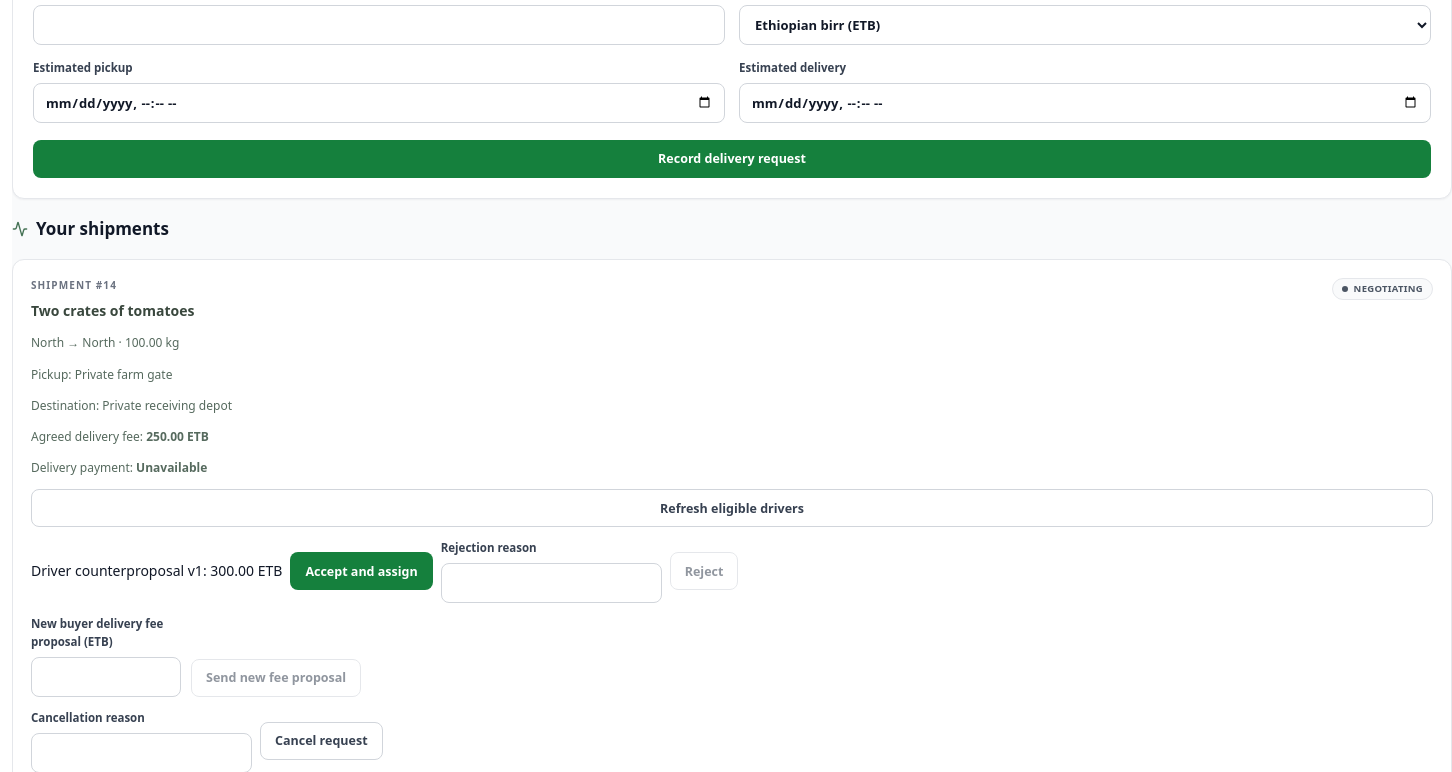
Phase 3 shipment workspace › requires and submits a reason when rejecting a driver counterproposal
(page scrolled)
Expected: the text "Driver counterproposal v1: 300.00 ETB" is shown, [31,560,282,582]
Expected: the button "Reject" is disabled, [670,552,738,590]
In the field named "Rejection reason for counterproposal 27": (551, 583) [441,563,662,603], type "  The requested fee is above the available budget.  "
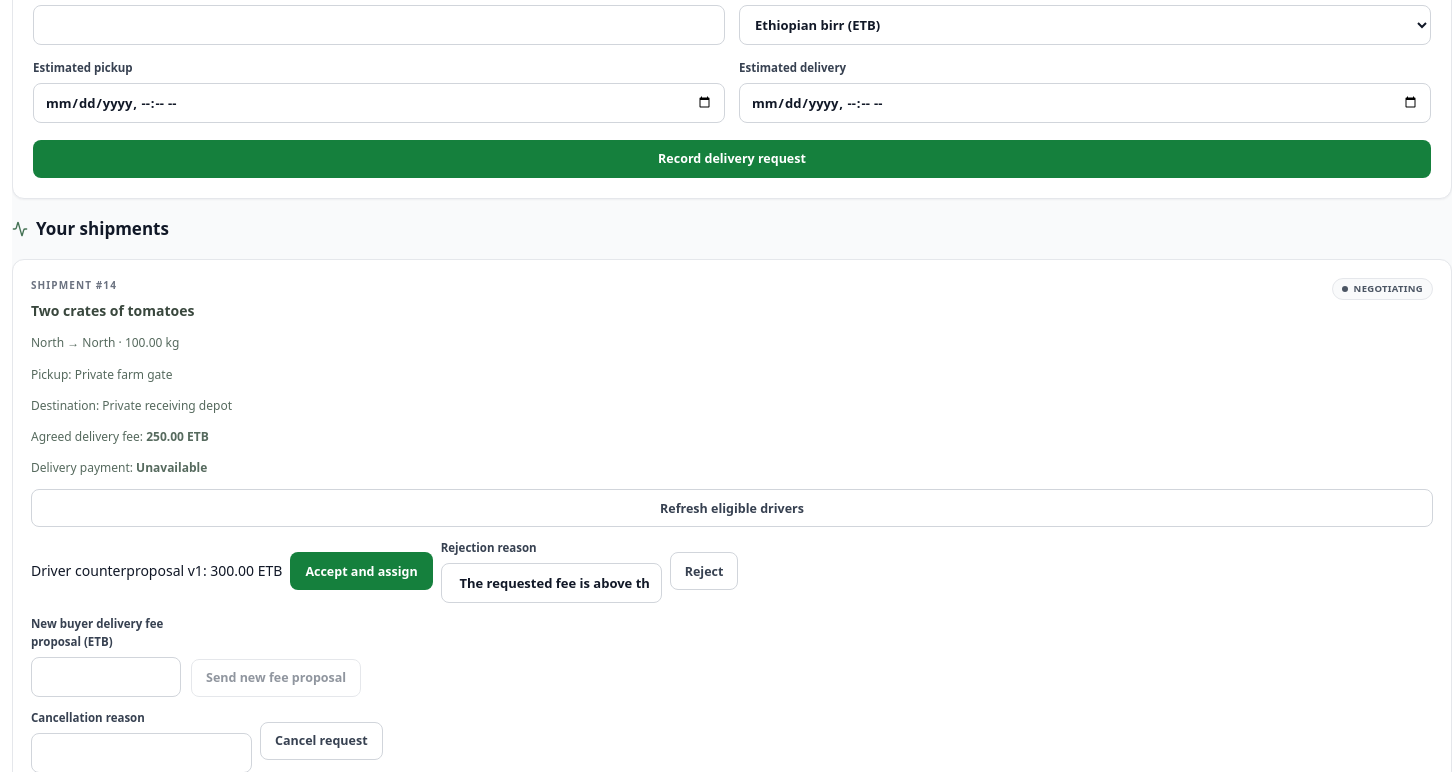
Expected: the button "Reject" is enabled
Click the button "Reject": click(704, 571) [670,552,738,590]
(page scrolled)
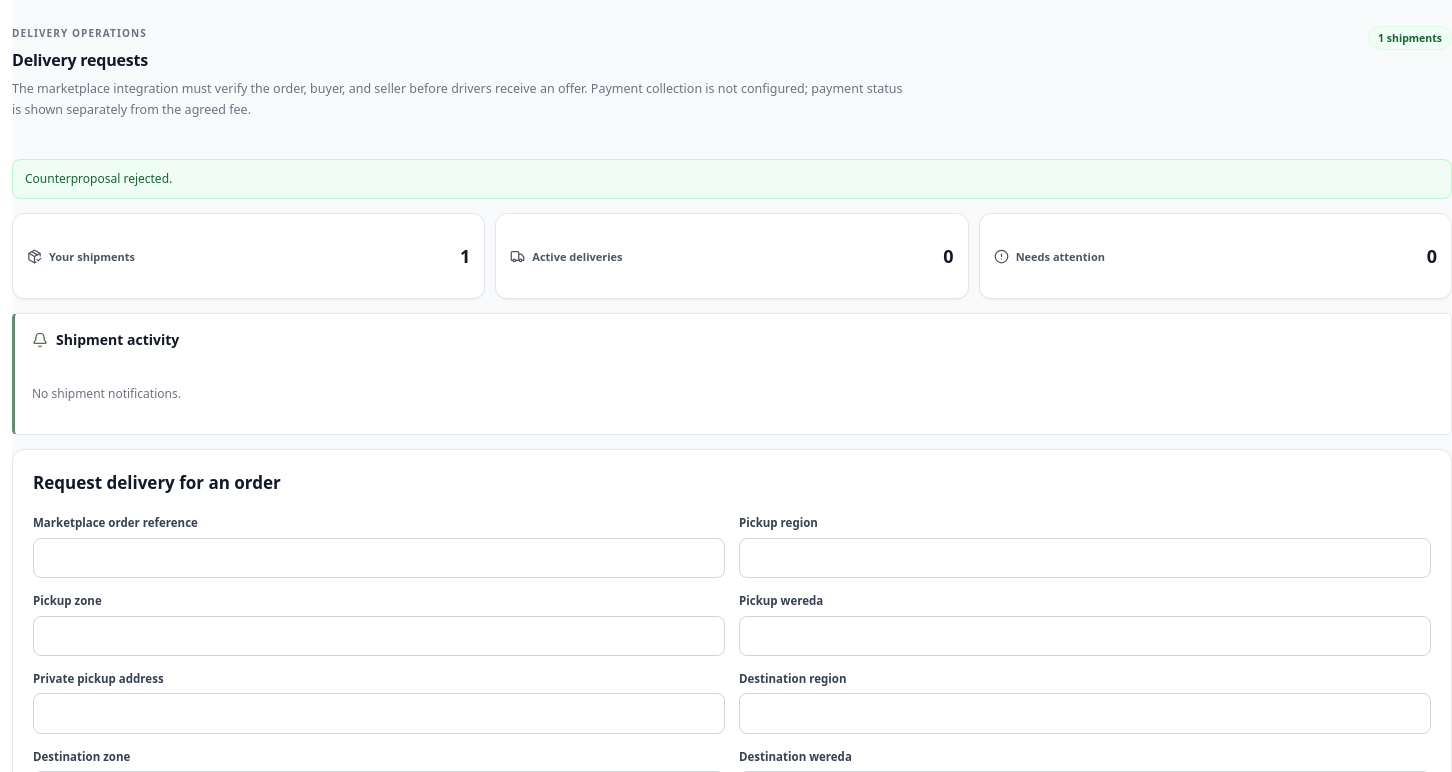
Expected: the text "Counterproposal rejected." is shown, [12,158,1451,199]
